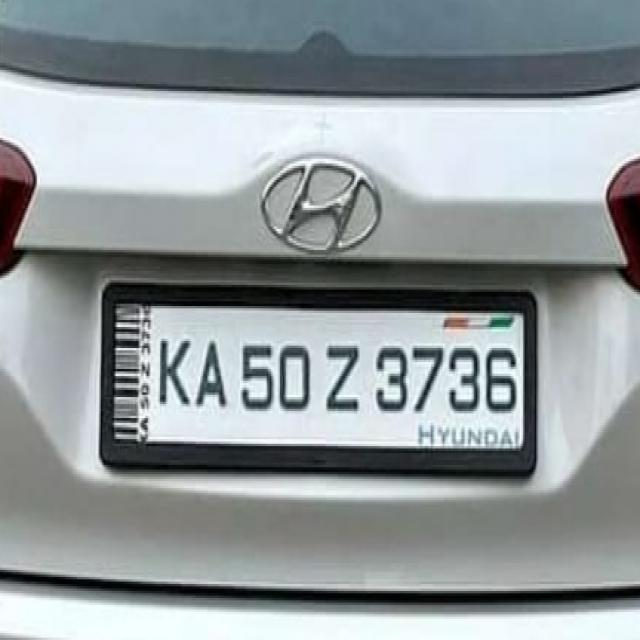0: (274, 337, 316, 415)
3: (375, 338, 407, 421), (448, 339, 482, 414)
5: (236, 335, 276, 415)
6: (483, 340, 521, 418)
7: (408, 338, 446, 421)
A: (196, 336, 229, 414)
K: (155, 334, 193, 412)
Z: (323, 339, 361, 414)
